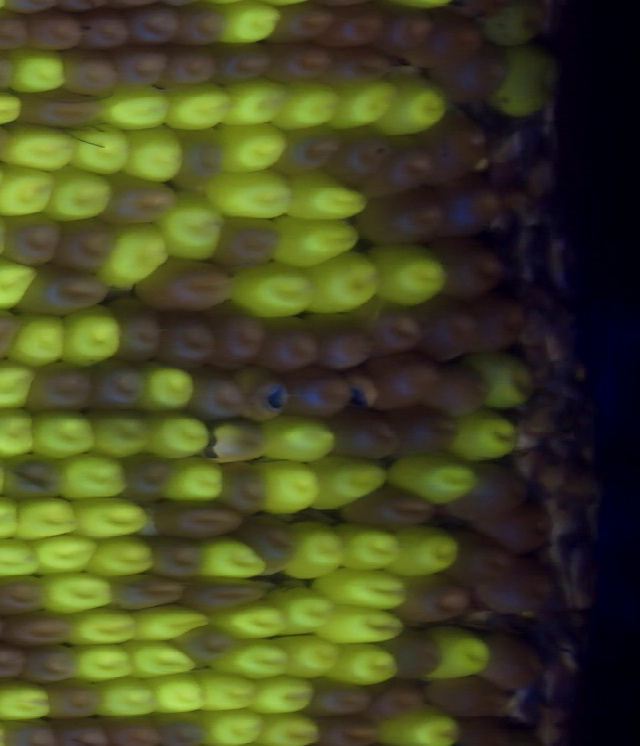fluorescent: (365, 240, 455, 312), (231, 259, 324, 323), (208, 164, 307, 224), (278, 164, 373, 226), (268, 211, 363, 272), (368, 72, 452, 140), (95, 219, 172, 292), (159, 187, 232, 264), (384, 451, 486, 506), (211, 117, 298, 181), (490, 40, 555, 125), (310, 247, 386, 319), (116, 120, 193, 188), (445, 406, 528, 469), (419, 619, 498, 685), (381, 523, 467, 582), (279, 517, 350, 586), (154, 77, 241, 132), (2, 118, 84, 176), (42, 161, 119, 222), (251, 456, 327, 517), (212, 74, 296, 129), (329, 519, 409, 576), (25, 405, 102, 464), (310, 567, 415, 610), (325, 640, 408, 694), (61, 300, 125, 370), (34, 567, 119, 619), (477, 1, 562, 53), (466, 351, 539, 411), (314, 456, 395, 510), (59, 448, 135, 505), (144, 407, 220, 464), (255, 417, 345, 465), (135, 355, 205, 416), (4, 311, 74, 372), (66, 491, 156, 538), (212, 635, 296, 685), (129, 602, 218, 649), (85, 406, 159, 462), (320, 602, 414, 646), (211, 599, 295, 648), (191, 534, 273, 583), (65, 121, 135, 177), (118, 637, 203, 683), (28, 529, 106, 579), (328, 83, 403, 135), (0, 160, 62, 222), (268, 584, 340, 637), (383, 703, 471, 746), (275, 76, 345, 130), (6, 39, 71, 97), (95, 83, 175, 130), (89, 672, 164, 722), (194, 667, 265, 718), (273, 633, 345, 682), (164, 455, 235, 504), (68, 602, 144, 647), (204, 415, 271, 466), (246, 673, 323, 717), (9, 496, 86, 540), (82, 535, 158, 579), (218, 1, 279, 55), (141, 671, 211, 716), (197, 704, 268, 746), (66, 644, 135, 686), (248, 709, 326, 746), (0, 677, 56, 726), (0, 254, 42, 319), (0, 402, 45, 460), (0, 355, 38, 416), (0, 533, 45, 581), (0, 81, 31, 131)
nonfluorescent: (126, 256, 243, 317), (400, 2, 493, 74), (351, 186, 455, 247), (355, 132, 445, 200), (432, 165, 509, 244), (354, 349, 446, 415), (19, 262, 120, 320), (478, 554, 568, 619), (445, 457, 534, 521), (429, 39, 515, 105), (96, 167, 189, 227), (419, 103, 489, 182), (473, 626, 553, 695), (415, 297, 492, 367), (419, 670, 521, 722), (331, 483, 443, 530), (435, 230, 505, 304), (390, 570, 476, 630), (272, 115, 350, 181), (440, 525, 522, 587), (303, 306, 380, 372), (144, 496, 253, 542), (105, 293, 171, 368), (209, 214, 288, 276), (324, 126, 399, 191), (353, 298, 431, 359), (12, 87, 115, 133), (51, 210, 121, 277), (232, 511, 300, 579), (0, 201, 66, 269), (255, 311, 325, 375), (424, 357, 495, 420), (22, 359, 101, 415), (205, 307, 273, 372), (470, 502, 555, 554), (166, 124, 226, 197), (385, 400, 458, 460), (228, 358, 295, 423), (154, 307, 223, 370), (184, 362, 255, 423), (331, 408, 405, 466), (181, 569, 268, 618), (462, 292, 533, 352), (282, 366, 358, 420), (105, 571, 193, 617), (85, 352, 151, 412), (381, 625, 445, 686), (209, 36, 280, 90), (117, 448, 181, 506), (299, 674, 378, 720), (262, 1, 343, 45), (158, 40, 223, 94), (0, 451, 67, 503), (214, 457, 272, 517), (57, 49, 125, 100), (16, 640, 85, 690), (320, 43, 395, 88), (265, 38, 336, 85), (361, 675, 431, 722), (111, 40, 178, 89), (36, 675, 110, 719), (1, 609, 77, 651), (381, 1, 440, 55), (140, 534, 206, 582), (75, 3, 136, 54), (120, 4, 189, 49), (325, 3, 395, 47), (25, 5, 86, 55), (172, 622, 235, 669), (171, 2, 230, 49), (448, 711, 526, 746), (0, 569, 53, 619), (312, 713, 383, 746), (151, 709, 214, 746), (99, 710, 163, 746), (48, 712, 113, 746), (0, 715, 64, 746), (0, 304, 30, 370), (0, 6, 35, 58), (0, 639, 32, 686)
